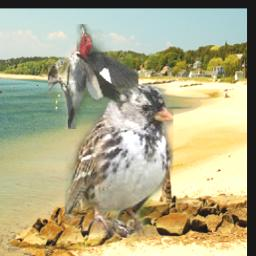Sparrow: (66, 85, 174, 239)
Woodpecker: (49, 24, 139, 129)
